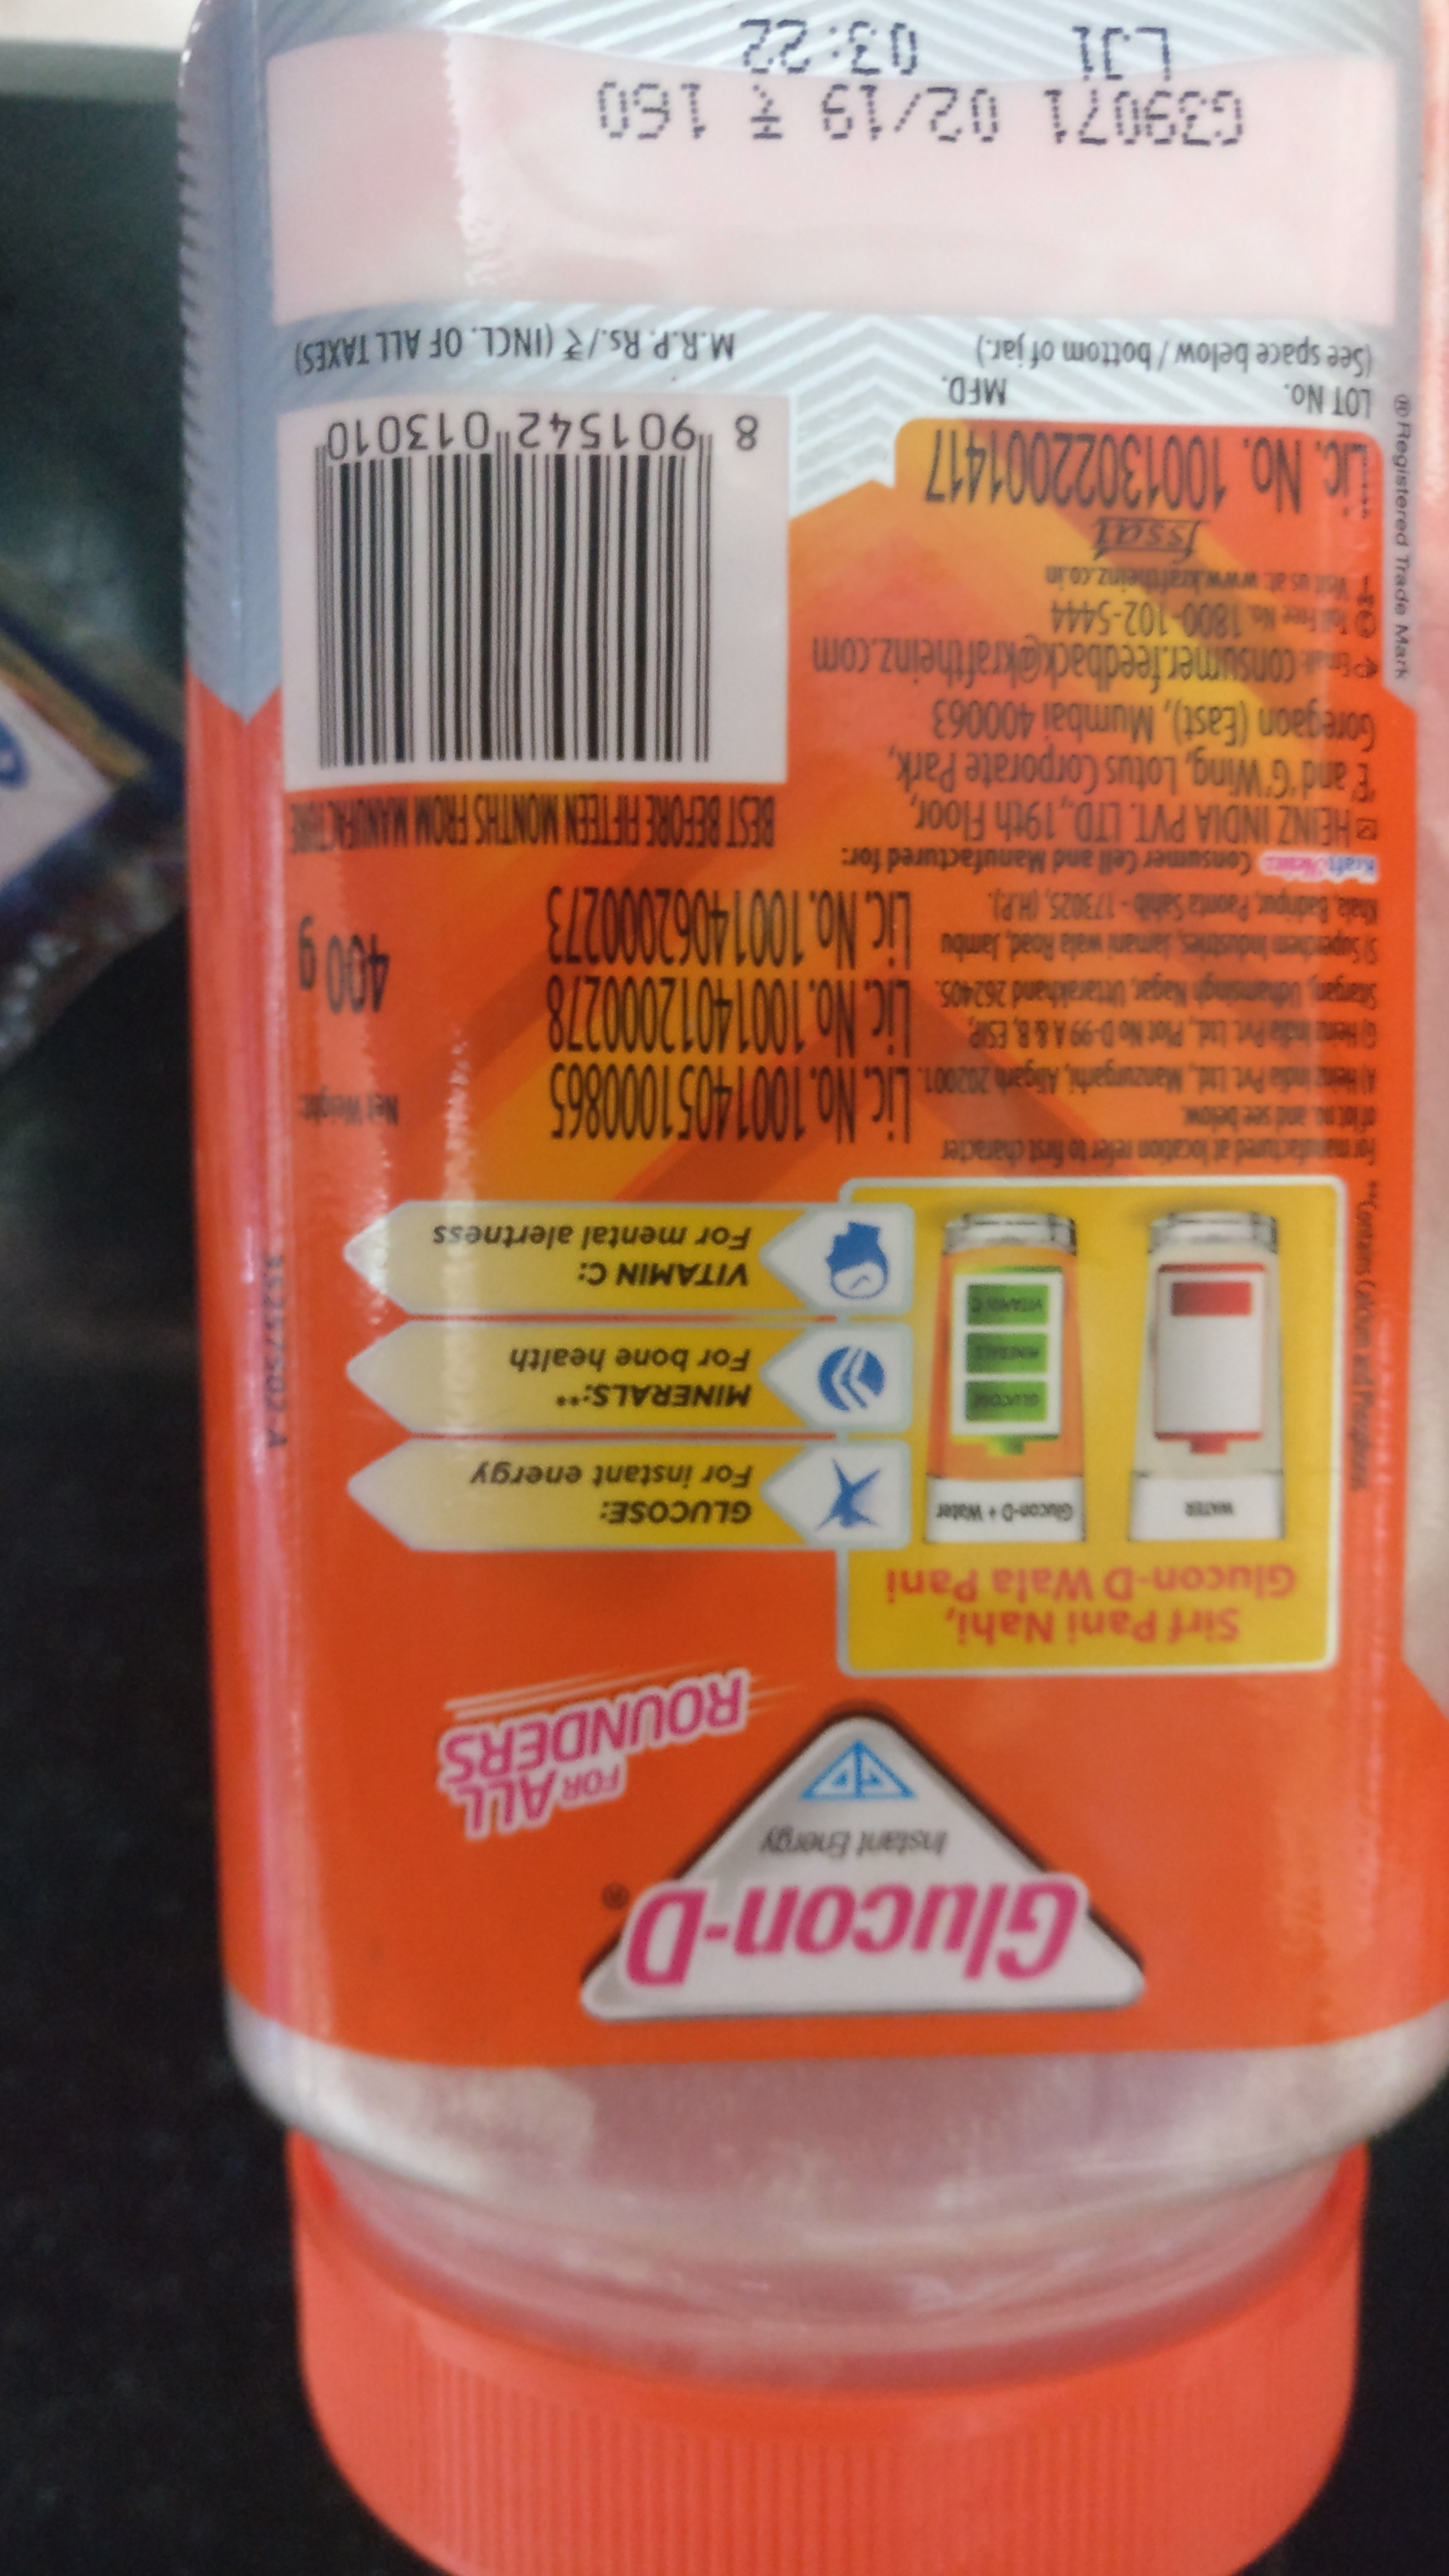barcode: (280, 396, 775, 814)
